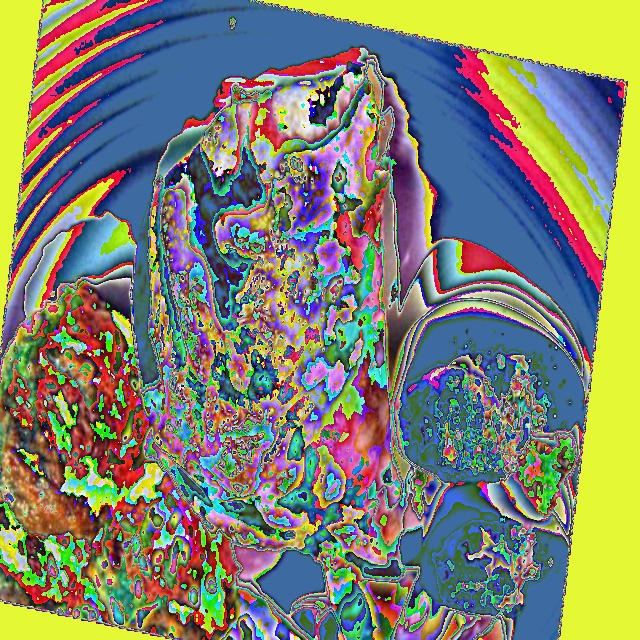background: (0, 59, 587, 639)
